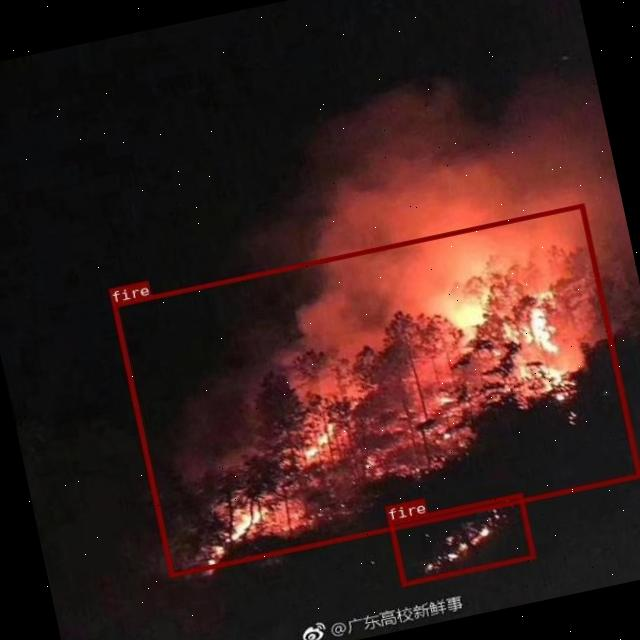fire: (110, 202, 640, 577), (388, 492, 535, 585)
